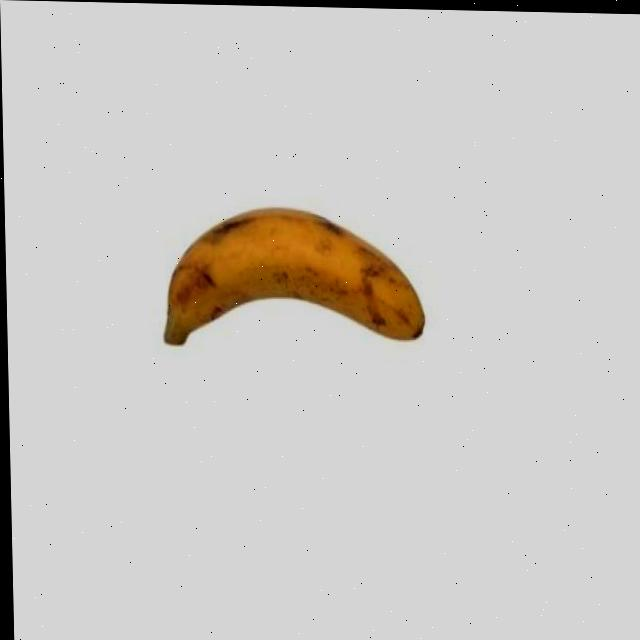banana: (153, 203, 431, 351)
